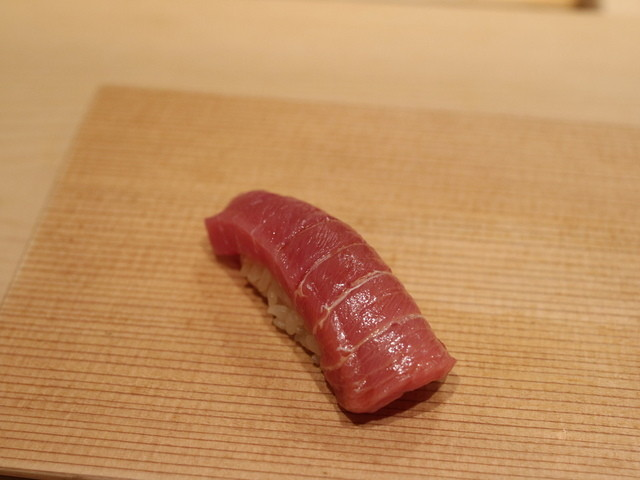medium_fatty_tuna: (201, 188, 458, 427)
